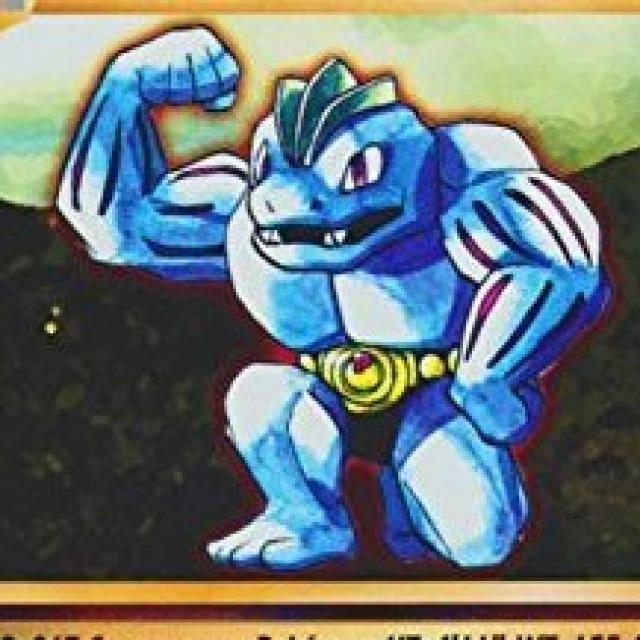Machoke: (103, 29, 586, 532)
